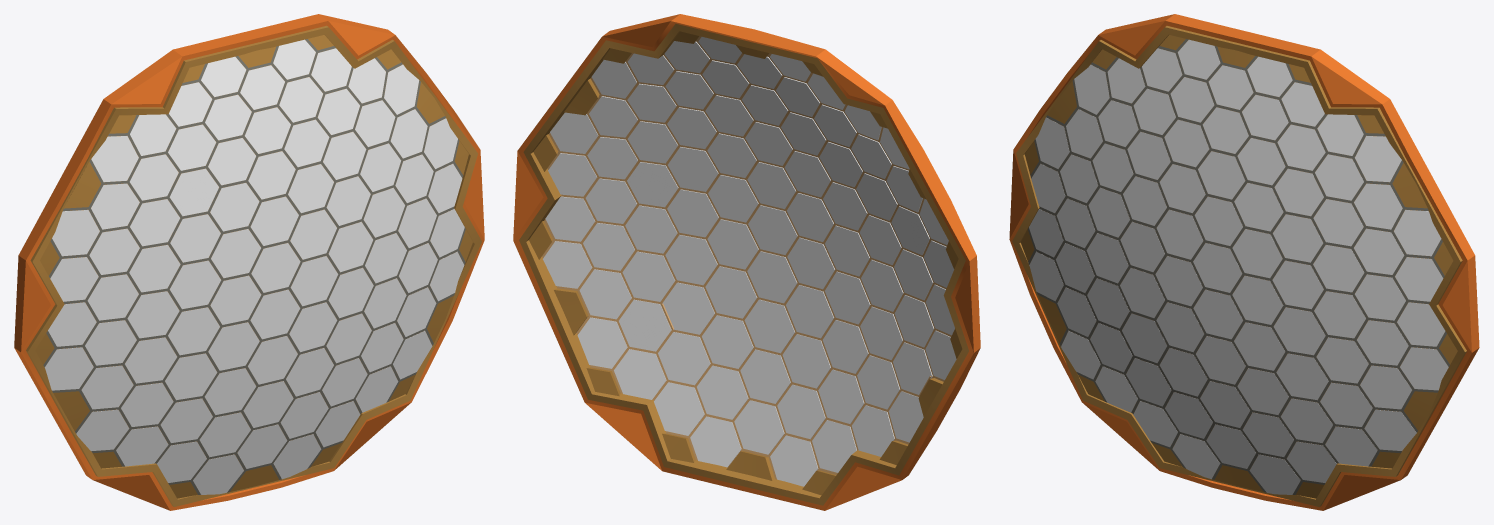
The model's file is Hexpane_Window.glb.
3 renders of one model, left to right at view 1: azimuth 30°, elevation 25°; view 2: azimuth 150°, elevation 25°; view 3: azimuth 330°, elevation 25°, orthographic.
Visible parts, largest first — view 1: HexWindow_LOD0; view 2: HexWindow_LOD0; view 3: HexWindow_LOD0.
Part boxes in pixels (<box>): HexWindow_LOD0: <box>14,14,484,510</box>; HexWindow_LOD0: <box>513,14,980,510</box>; HexWindow_LOD0: <box>1009,14,1479,510</box>.
Size of what is drawn, in the model's own units: 7.19 by 6.79 by 0.8182.
